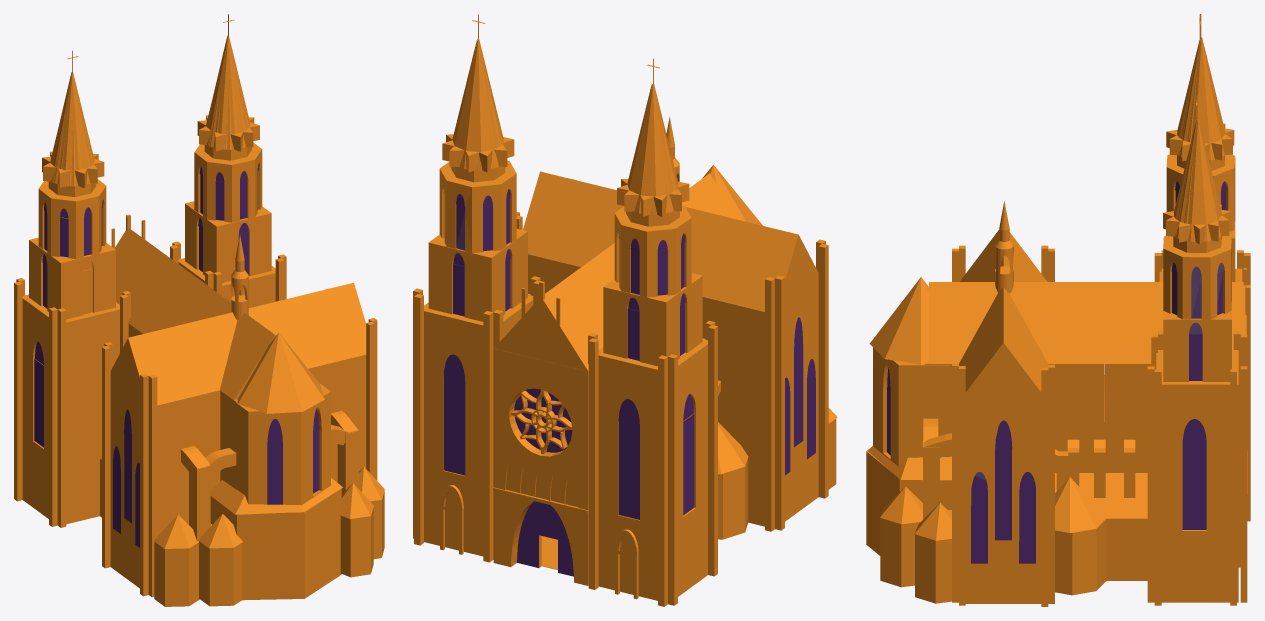
The model's file is Katedra.obj.
3 views of the same model, side by side, from view 1: azimuth 30°, elevation 25°; view 2: azimuth 150°, elevation 25°; view 3: azimuth 270°, elevation 25° (orthographic). The views are drawn at different scales.
Parts seen in each view (by area): view 1: RADOM_3D_Katedra; view 2: RADOM_3D_Katedra; view 3: RADOM_3D_Katedra.
Part boxes in pixels (x1=…): RADOM_3D_Katedra: x1=14, y1=14, x2=384, y2=606; RADOM_3D_Katedra: x1=413, y1=14, x2=837, y2=606; RADOM_3D_Katedra: x1=866, y1=14, x2=1250, y2=606.
Bounding box in the file's own units: 40.8 × 75 × 53.13.
